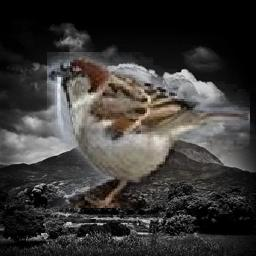Sparrow: (48, 52, 251, 208)
